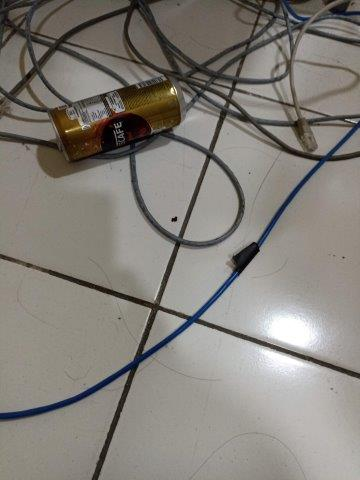kaleng: (49, 74, 187, 164)
